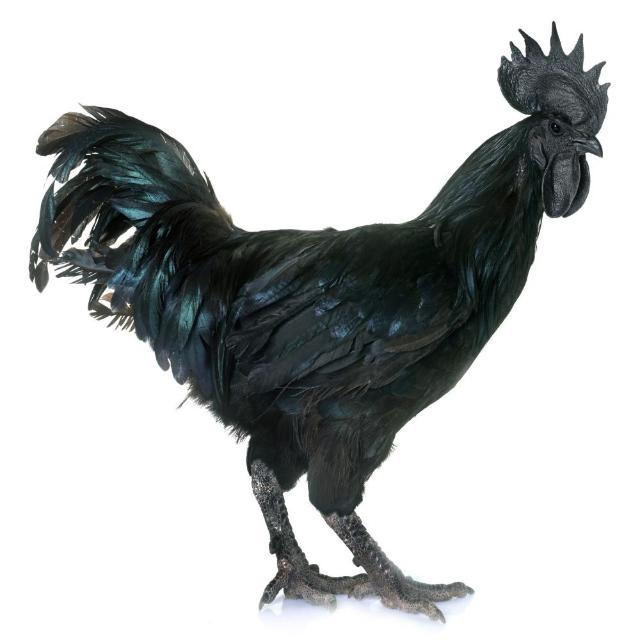Chicken: (27, 22, 611, 617)
